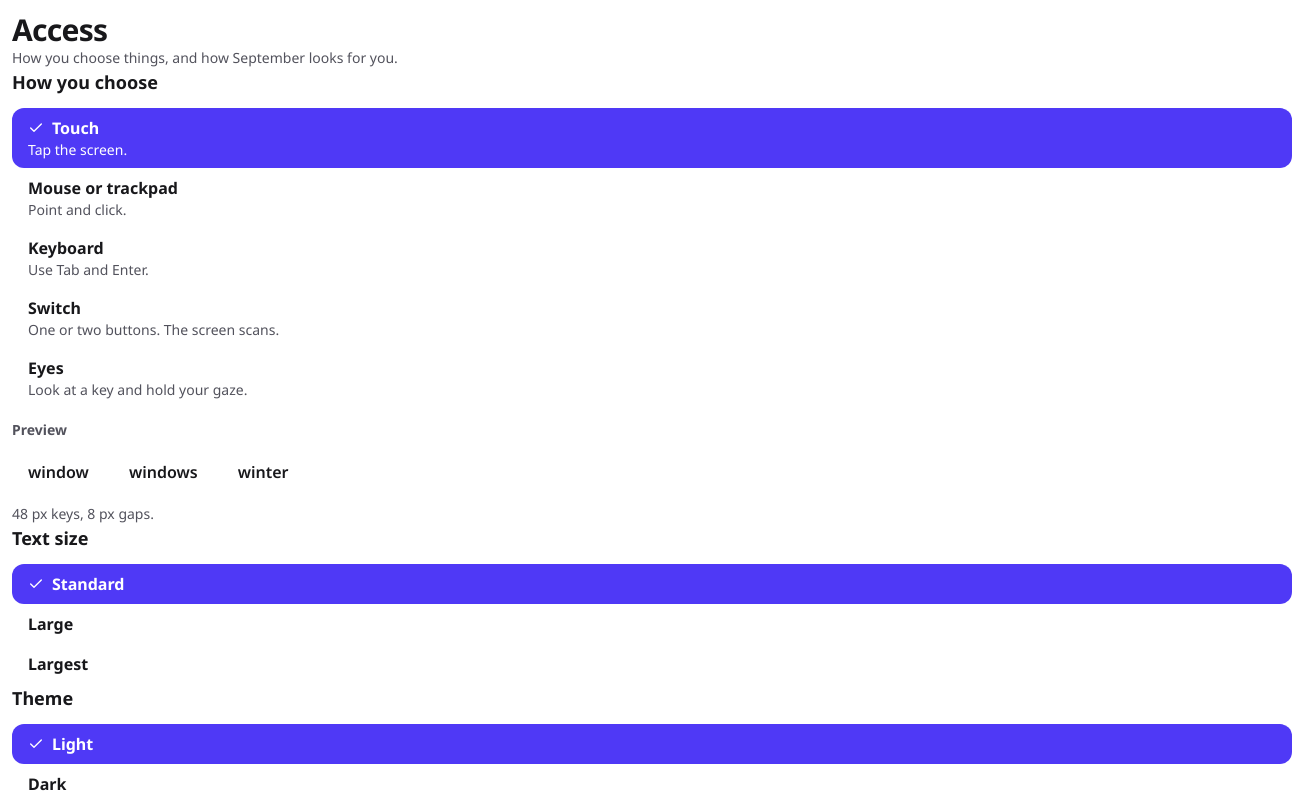
Test: the Access section of Settings › offers the scan step only for a switch
The width and height of the screenshot is (1304, 805).
Check: the text "Scan step" is not shown
Click the radio button labelled "Switch One or two buttons. The screen scans.". click: (54, 308)
box: [12,288,1292,348]
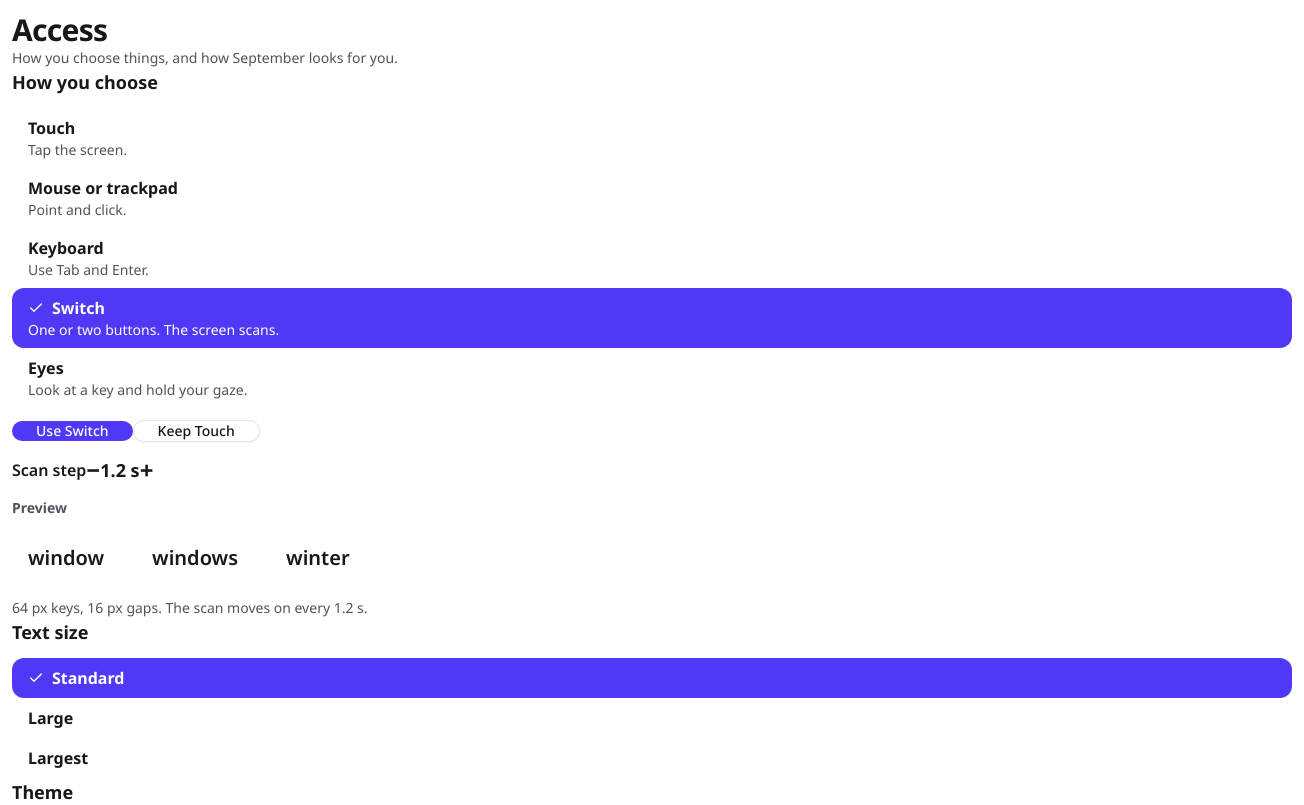
Check: the text "Scan step" is shown, box [12,458,86,482]
